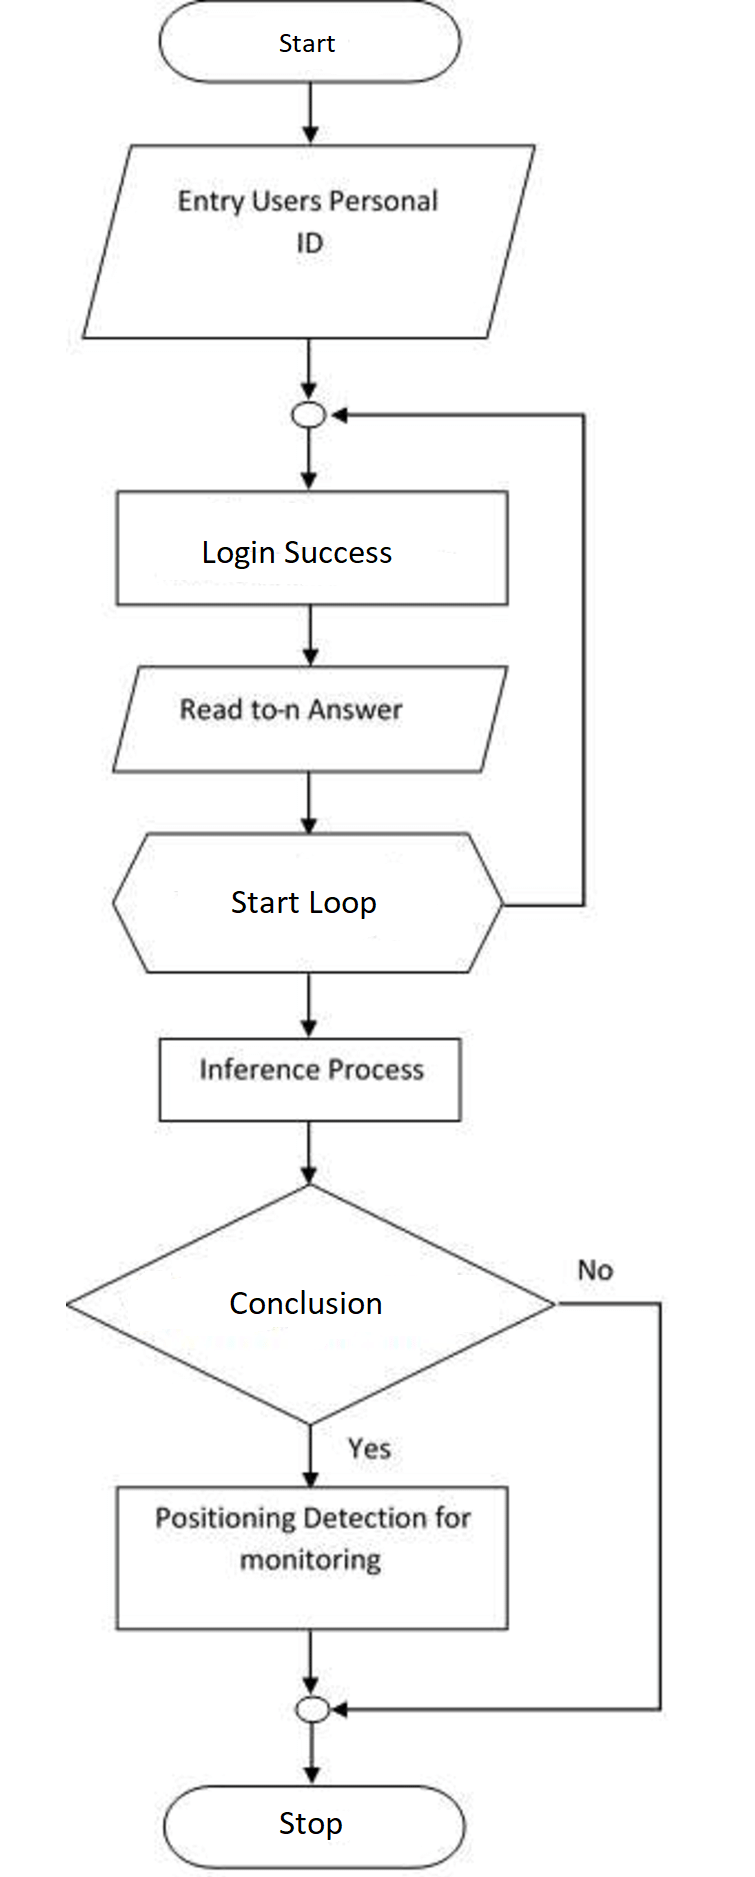arrow: (324, 1298, 672, 1721), (324, 401, 595, 918), (292, 1623, 337, 1703), (292, 763, 327, 838), (292, 962, 324, 1043), (292, 595, 324, 669), (296, 75, 327, 146), (292, 423, 324, 488), (302, 1718, 329, 1794), (302, 1413, 327, 1495), (296, 335, 327, 397), (296, 1114, 324, 1182)
connection: (287, 1685, 337, 1726), (284, 397, 331, 432)
data: (75, 138, 541, 356), (104, 655, 512, 780)
decision: (55, 1178, 561, 1426)
process: (106, 1475, 518, 1638), (104, 824, 504, 983), (106, 482, 524, 615), (147, 1029, 467, 1126)
terminator: (158, 1778, 470, 1877), (150, 1, 467, 89)
text: (147, 1495, 477, 1578), (168, 183, 444, 259), (172, 692, 409, 735), (195, 535, 398, 575), (195, 1052, 424, 1086), (221, 881, 380, 923), (224, 1283, 386, 1323), (269, 1806, 352, 1846), (272, 23, 341, 63), (341, 1429, 398, 1466), (570, 1252, 619, 1286)
